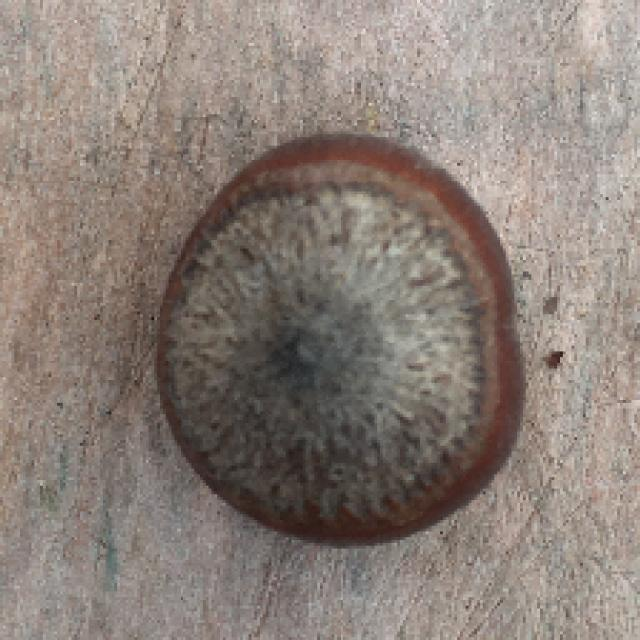DamagedHazelnut: (158, 135, 530, 545)
